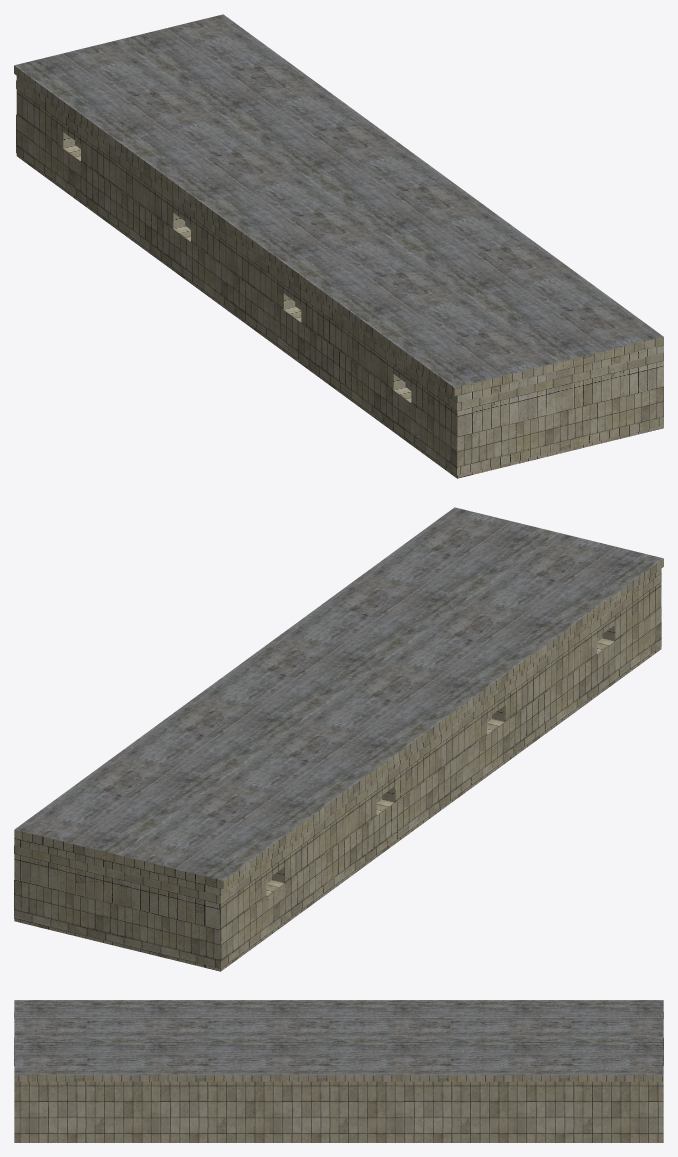
The model's file is civ_top_a.FBX.
3 views of the same model, one above another, from view 1: azimuth 30°, elevation 25°; view 2: azimuth 150°, elevation 25°; view 3: azimuth 270°, elevation 25° (orthographic). The views are drawn at different scales.
Parts seen in each view (by area): view 1: civ_top_a; view 2: civ_top_a; view 3: civ_top_a.
Boxes of the visible parts, x1=… form: civ_top_a: x1=14, y1=14, x2=663, y2=478; civ_top_a: x1=14, y1=507, x2=663, y2=971; civ_top_a: x1=14, y1=1000, x2=663, y2=1142.
Bounding box in the file's own units: 329 × 138 × 1201.
